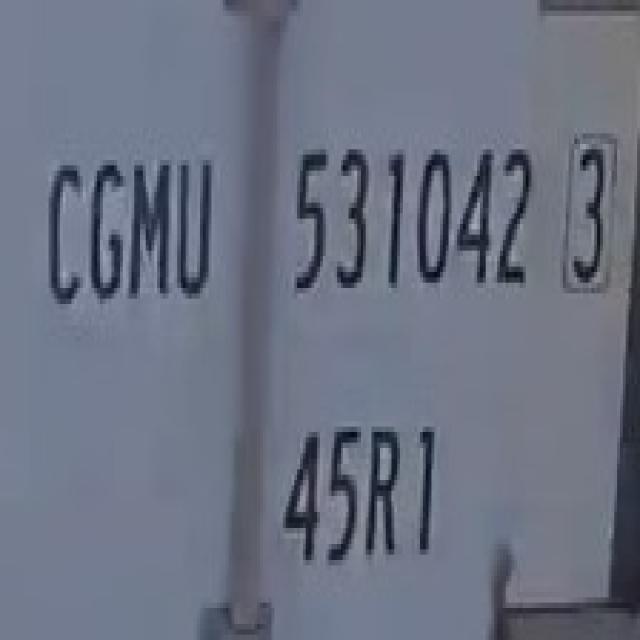dv: (557, 107, 625, 301)
owner: (23, 115, 224, 325)
serial: (284, 122, 549, 329)
size: (253, 385, 447, 582)
